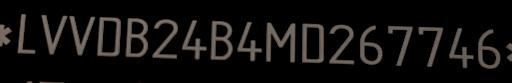letter: (263, 20, 297, 65), (326, 22, 358, 65), (385, 23, 415, 68), (416, 25, 444, 70), (39, 12, 67, 57), (67, 13, 95, 58), (94, 14, 122, 59), (448, 24, 474, 71), (150, 17, 178, 60), (180, 17, 208, 60), (235, 19, 263, 62), (476, 27, 502, 72), (123, 15, 149, 60), (300, 20, 326, 65), (208, 18, 234, 61), (358, 23, 384, 66), (16, 11, 36, 56)
